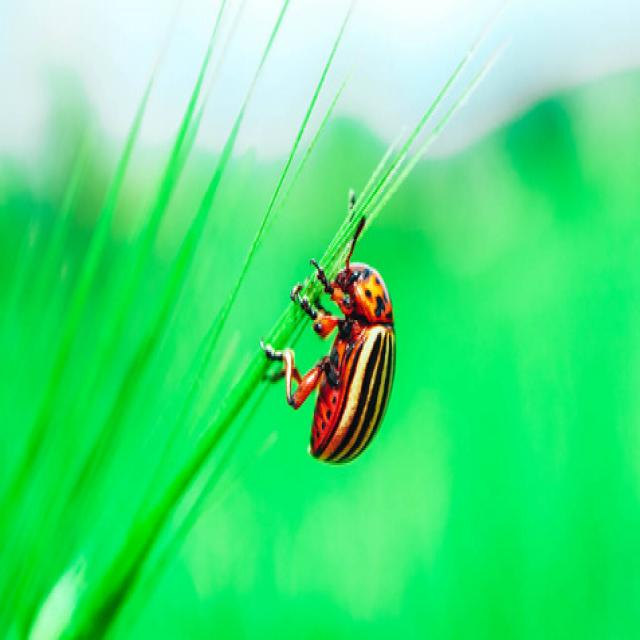ShuCaiHuaBanChong-Grown-: (285, 238, 405, 456)
